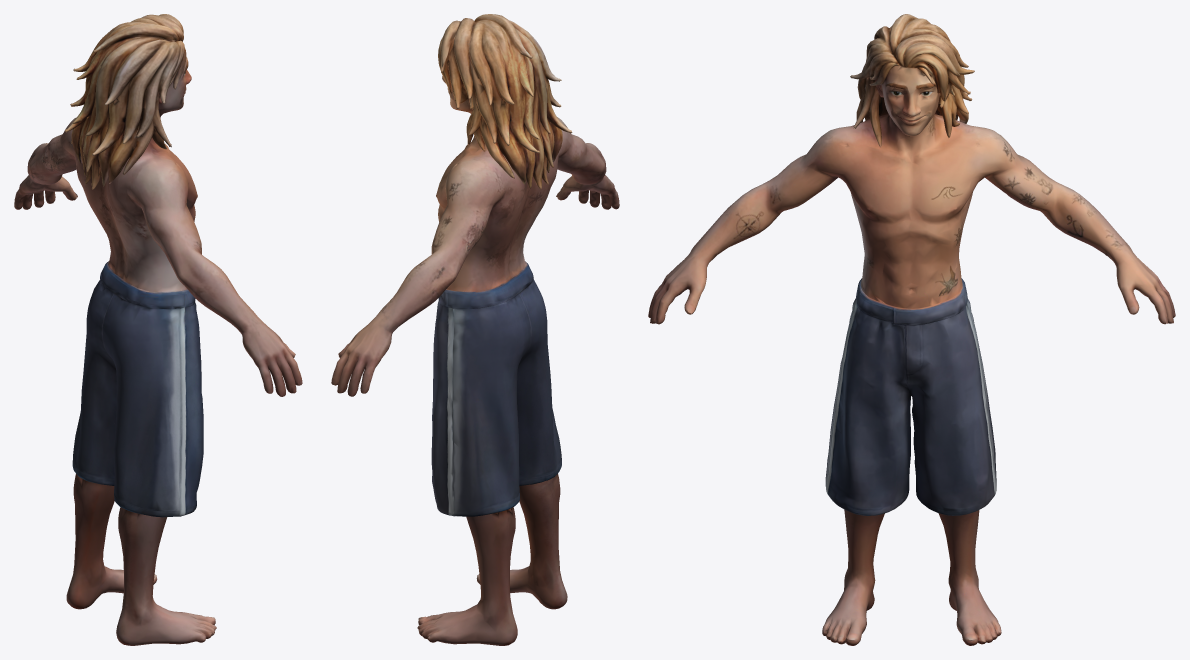
Rendered from the-talent.glb.
3 renders of one model, left to right at view 1: azimuth 30°, elevation 25°; view 2: azimuth 150°, elevation 25°; view 3: azimuth 270°, elevation 25°, orthographic.
Visible parts, largest first — view 1: talent; view 2: talent; view 3: talent.
Boxes of the visible parts, bbox=[...] form: talent: bbox=[14, 14, 302, 645]; talent: bbox=[331, 14, 619, 645]; talent: bbox=[648, 14, 1175, 645].
Bounding box in the file's own units: 0.1958 × 0.9799 × 0.77.
Materials: 1 (1 with a texture image).
